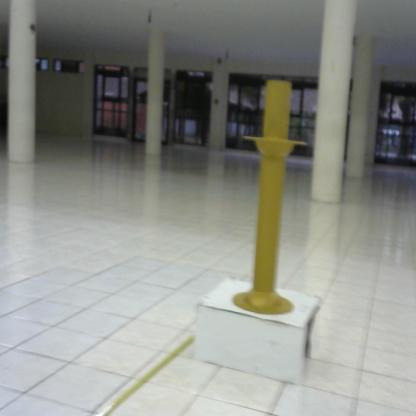pole: (239, 75, 310, 321)
